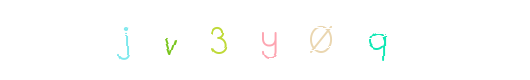0: (253, 0, 333, 80)
3: (172, 0, 252, 80)
J: (130, 0, 210, 80)
Q: (339, 0, 419, 80)
V: (153, 0, 233, 80)
Y: (224, 0, 304, 80)
